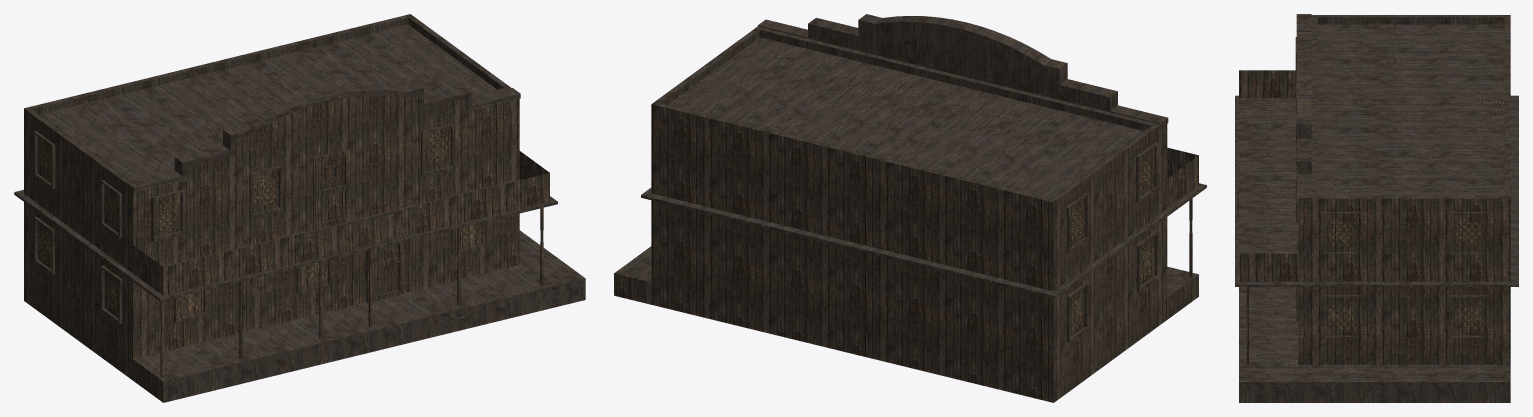
Rendered from House 6 N.fbx.
3 renders of one model, left to right at view 1: azimuth 30°, elevation 25°; view 2: azimuth 150°, elevation 25°; view 3: azimuth 270°, elevation 25°, orthographic. The views are drawn at different scales.
Parts seen in each view (by area): view 1: Model; view 2: Model; view 3: Model.
Boxes of the visible parts, <box> form: Model: <box>14,14,585,402</box>; Model: <box>614,14,1206,402</box>; Model: <box>1235,14,1518,402</box>.
Bounding box in the file's own units: 91.12 × 48.38 × 53.75.
